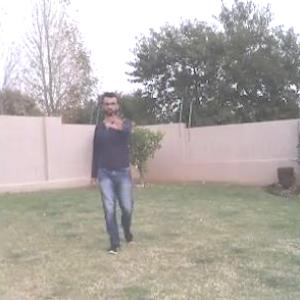follow_hand: (105, 108, 125, 133)
